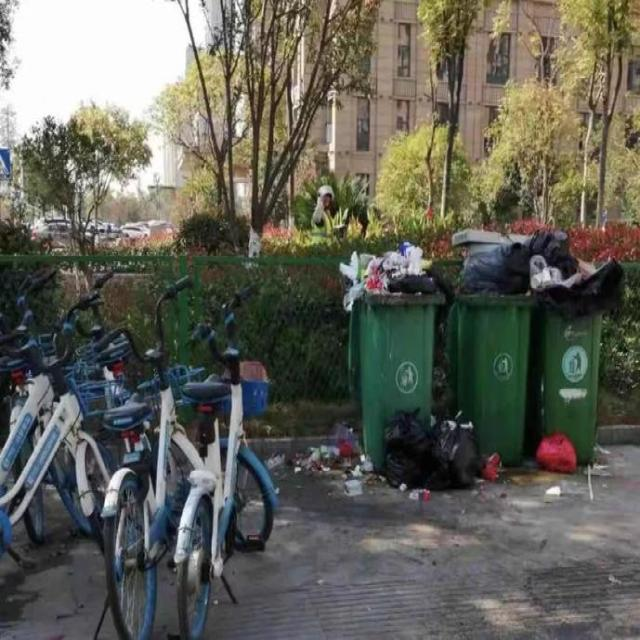garbage: (270, 412, 507, 499), (534, 430, 576, 494)
overflow: (338, 242, 445, 466), (530, 224, 624, 466), (444, 228, 534, 463)
